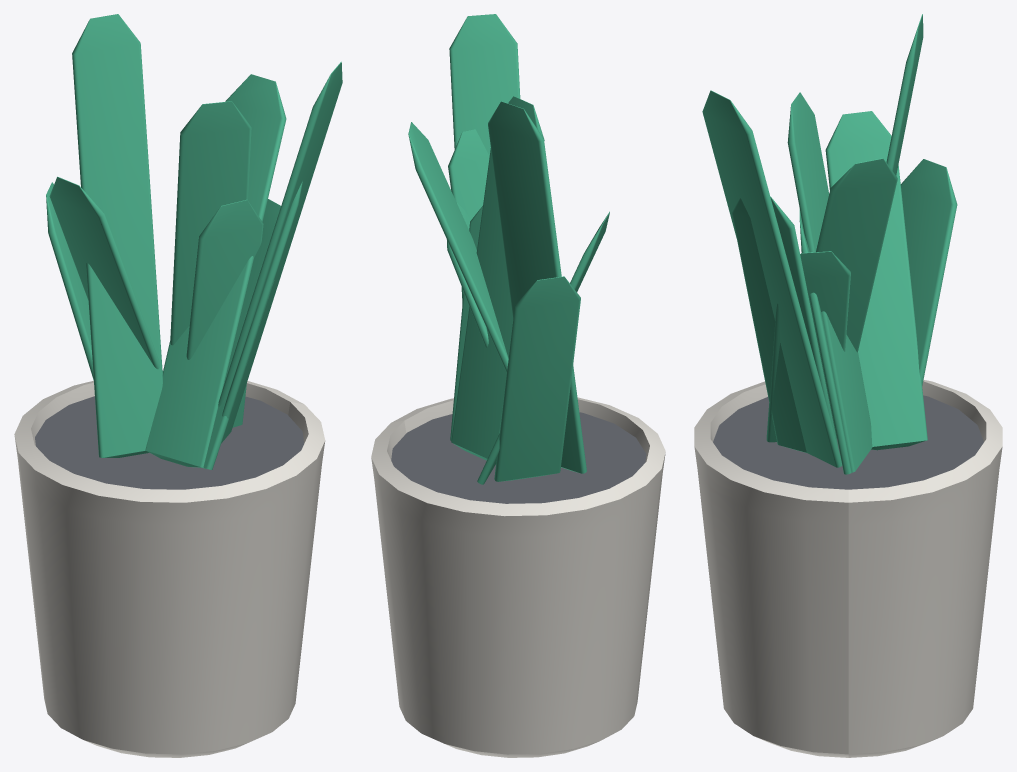
Rendered from university-lecture-hall-and-campus-plant-pot-ff08c83f__34780.glb.
The picture shows the model from 3 angles, left to right: view 1: azimuth 30°, elevation 25°; view 2: azimuth 150°, elevation 25°; view 3: azimuth 270°, elevation 25°; orthographic projection. The views are drawn at different scales.
Parts seen in each view (by area): view 1: plant-pot; view 2: plant-pot; view 3: plant-pot.
Boxes of the visible parts, box(x1,y1,x2,y2) form: plant-pot: box(14, 14, 342, 757); plant-pot: box(371, 14, 665, 757); plant-pot: box(694, 14, 1002, 757).
Bounding box in the file's own units: 0.47 × 1.13 × 0.4652.
